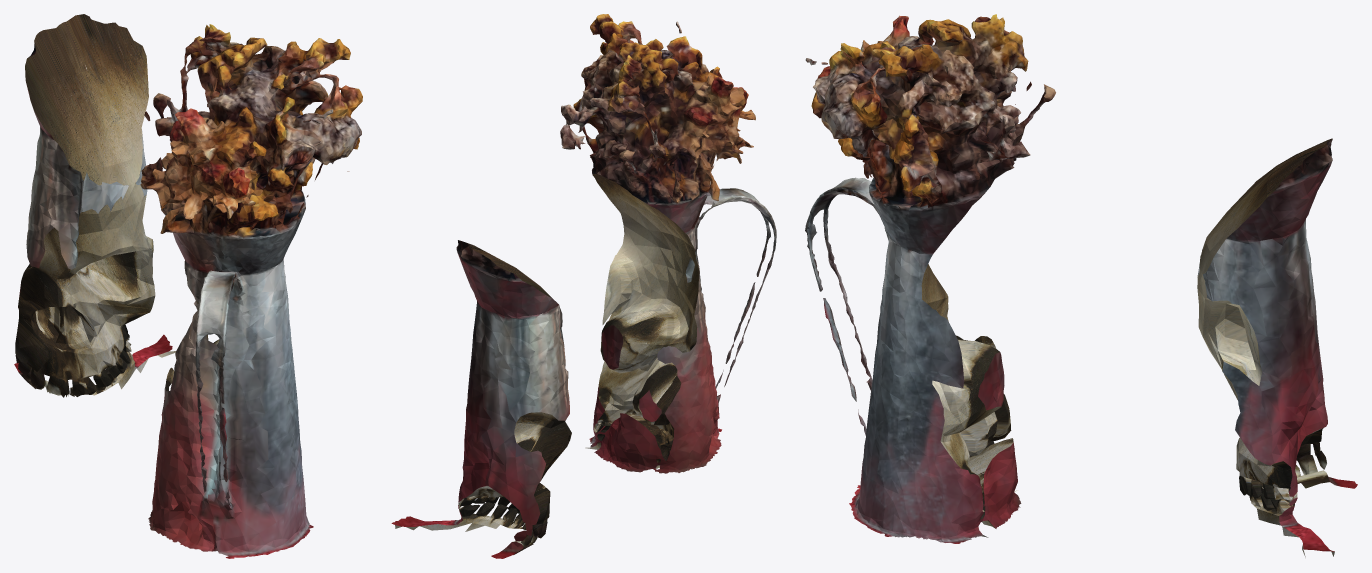
Rendered from Bouquet-Skull_duo.glb.
3 views of the same model, side by side, from view 1: azimuth 30°, elevation 25°; view 2: azimuth 150°, elevation 25°; view 3: azimuth 270°, elevation 25° (orthographic). The views are drawn at different scales.
Visible parts, largest first — view 1: Scaniverse_2024_09_22_123409, Scaniverse_2024_09_22_123409.001; view 2: Scaniverse_2024_09_22_123409, Scaniverse_2024_09_22_123409.001; view 3: Scaniverse_2024_09_22_123409, Scaniverse_2024_09_22_123409.001.
Part boxes in pixels (x1,y1,x2,y2): Scaniverse_2024_09_22_123409: (140, 24, 362, 558); Scaniverse_2024_09_22_123409.001: (14, 14, 175, 397); Scaniverse_2024_09_22_123409: (560, 14, 776, 473); Scaniverse_2024_09_22_123409.001: (391, 240, 571, 558); Scaniverse_2024_09_22_123409: (805, 14, 1055, 543); Scaniverse_2024_09_22_123409.001: (1197, 138, 1357, 557).
Size of the model in its own units: 1.9 by 4 by 3.98.
Materials: 2 (2 with a texture image).
